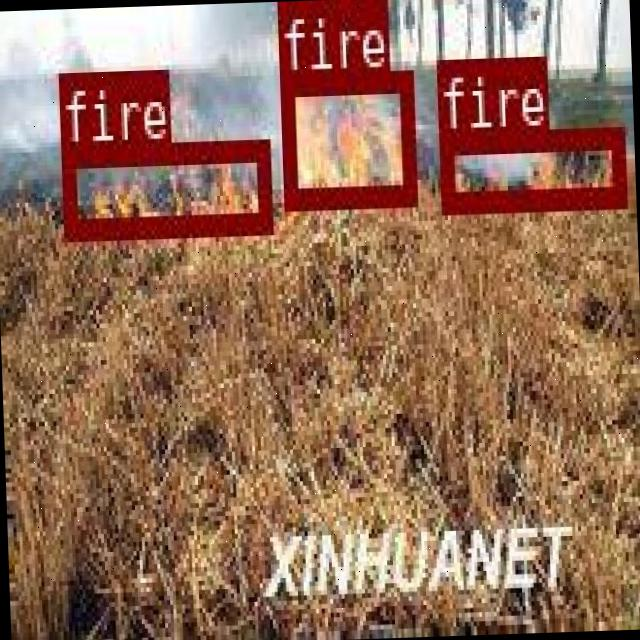fire: (58, 136, 268, 237), (279, 67, 414, 203), (437, 124, 622, 210)
